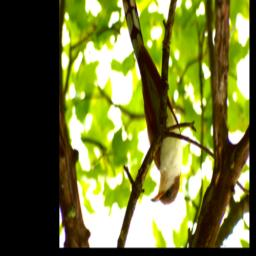Cuckoo: (122, 0, 183, 205)
